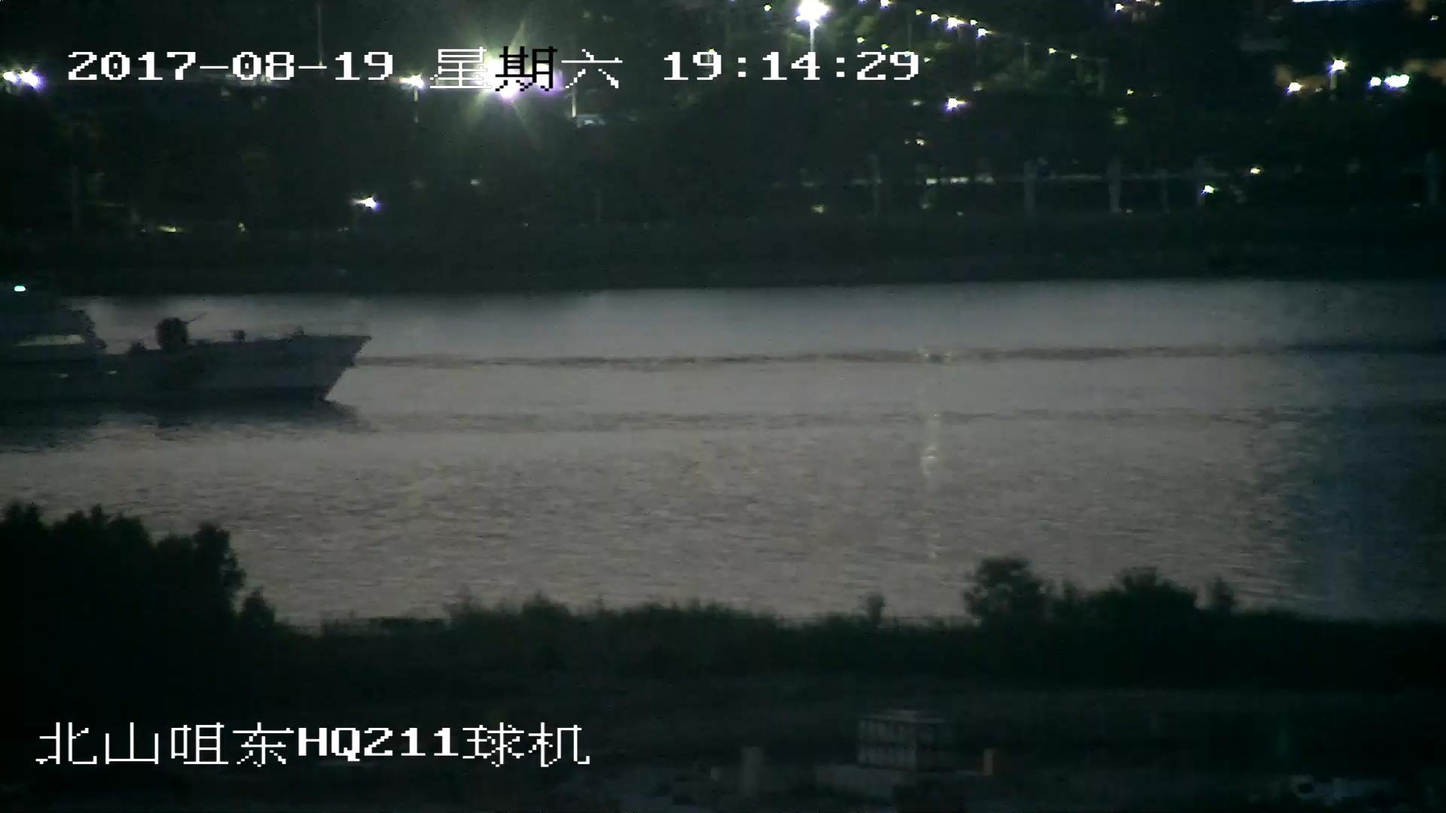passenger ship: (0, 281, 377, 410)
